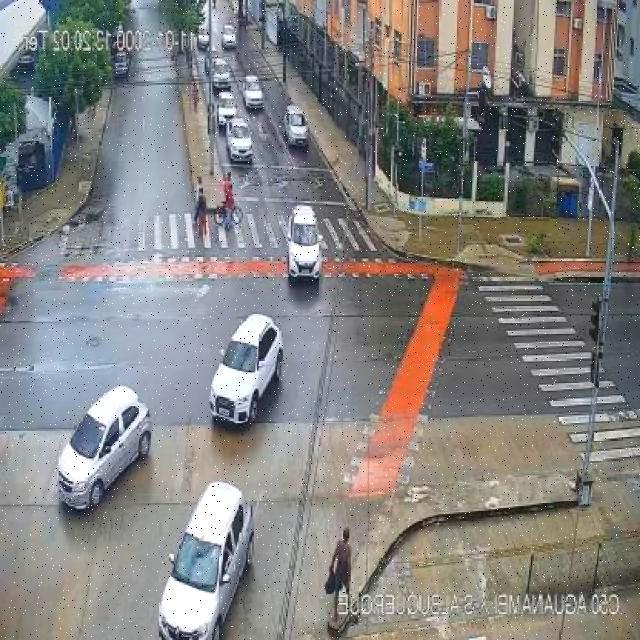Car: (156, 481, 255, 638), (56, 385, 152, 507), (211, 314, 284, 426), (284, 206, 324, 282), (225, 119, 254, 162), (283, 105, 309, 147), (216, 91, 237, 127), (242, 77, 263, 109), (212, 59, 232, 89), (112, 52, 130, 78), (221, 24, 237, 49), (197, 24, 210, 49)
